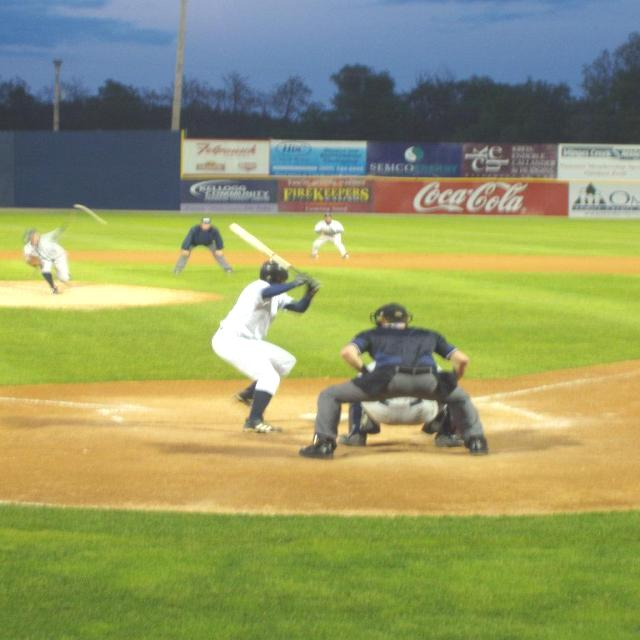bat: (227, 221, 301, 275)
